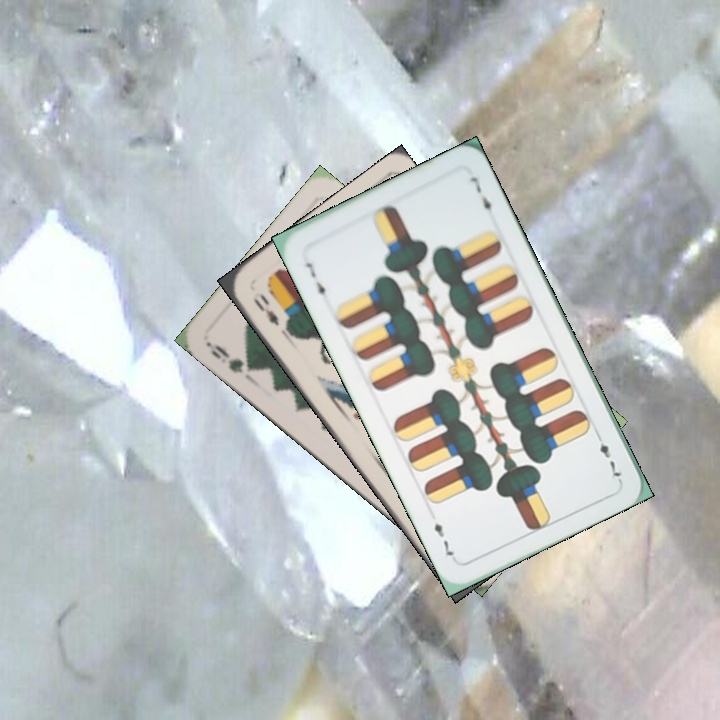E7: (591, 428, 624, 483), (302, 258, 328, 305)
EO: (248, 289, 282, 329)
G9: (203, 338, 259, 376)
